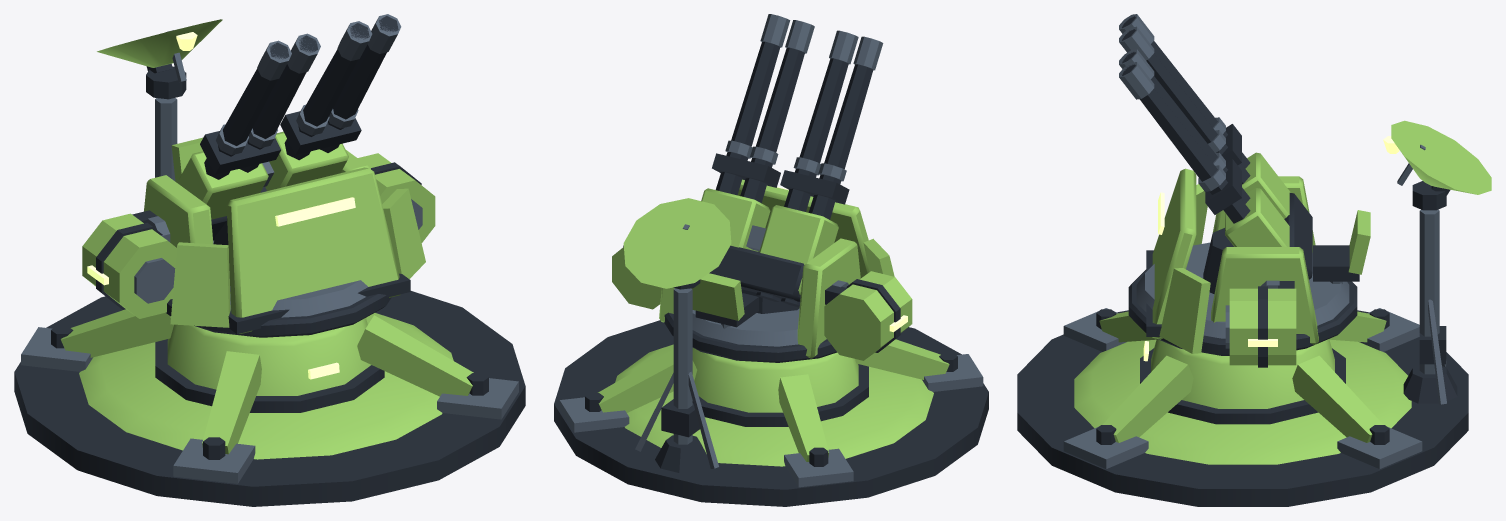
File: flak.glb
The picture shows the model from 3 angles, left to right: view 1: azimuth 30°, elevation 25°; view 2: azimuth 150°, elevation 25°; view 3: azimuth 270°, elevation 25°; orthographic projection. The views are drawn at different scales.
Visible parts, largest first — view 1: base, turret, kick_barrels, spin_radar; view 2: base, kick_barrels, turret, spin_radar; view 3: base, turret, kick_barrels, spin_radar.
Part boxes in pixels (bbox=[...]): base: bbox=[14, 98, 525, 506]; turret: bbox=[82, 137, 435, 337]; kick_barrels: bbox=[177, 14, 401, 240]; spin_radar: bbox=[97, 19, 222, 99]; base: bbox=[554, 288, 988, 506]; kick_barrels: bbox=[701, 14, 883, 307]; turret: bbox=[612, 179, 912, 362]; spin_radar: bbox=[623, 198, 731, 289]; base: bbox=[1017, 209, 1468, 506]; turret: bbox=[1128, 168, 1370, 367]; kick_barrels: bbox=[1119, 14, 1312, 279]; spin_radar: bbox=[1383, 120, 1491, 210].
Size of the model in its own units: 13.53 by 12.3 by 14.22.
